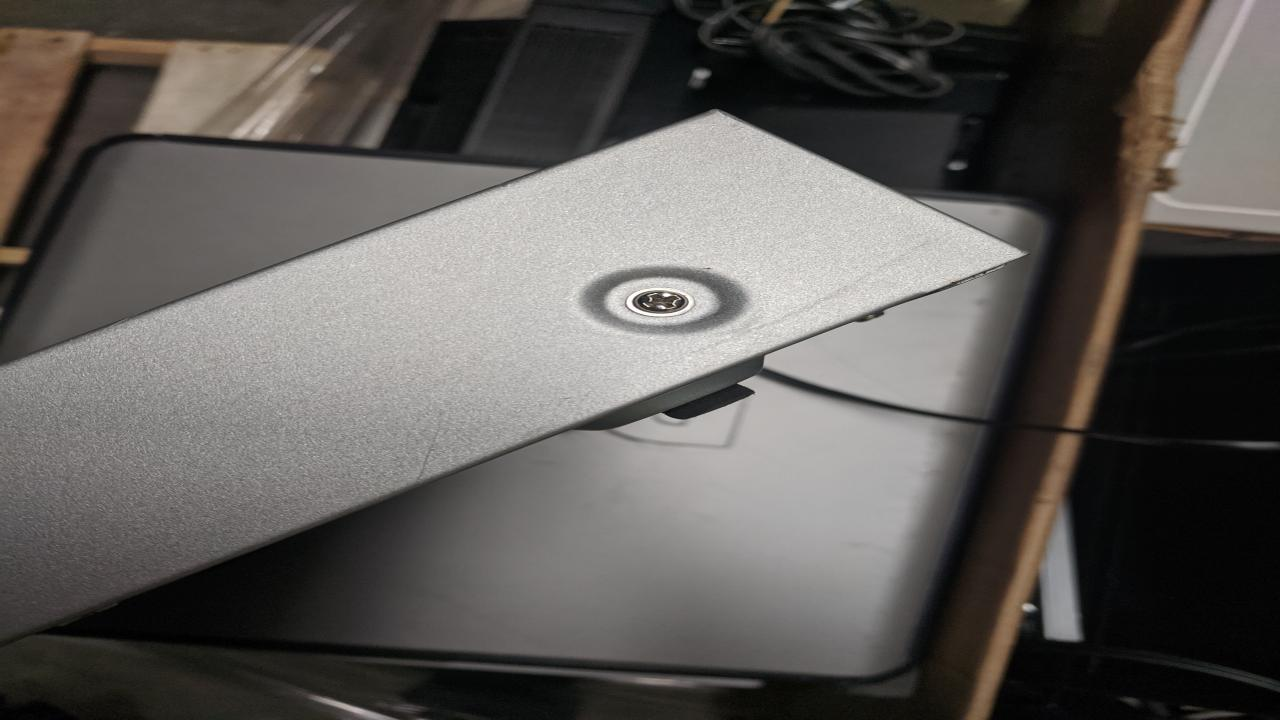CRS: (627, 288, 694, 315)
